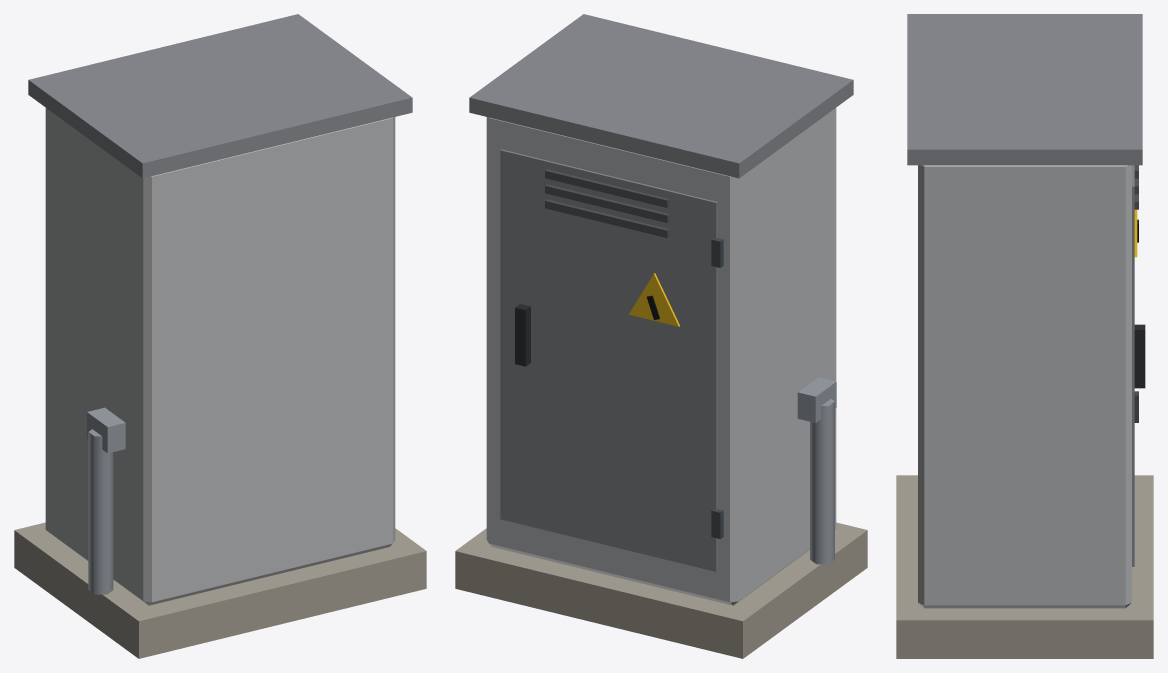
Rendered from prop_utility_box.glb.
The picture shows the model from 3 angles, left to right: view 1: azimuth 30°, elevation 25°; view 2: azimuth 150°, elevation 25°; view 3: azimuth 270°, elevation 25°; orthographic projection. The views are drawn at different scales.
Visible parts, largest first — view 1: prop_utility_box__mesh; view 2: prop_utility_box__mesh; view 3: prop_utility_box__mesh.
Part boxes in pixels (x1,y1,x2,y2): prop_utility_box__mesh: (14,14,426,658); prop_utility_box__mesh: (455,14,867,658); prop_utility_box__mesh: (896,14,1153,658).
Bounding box in the file's own units: 0.816 × 1.3 × 0.6.
1 material, 1 textured.
